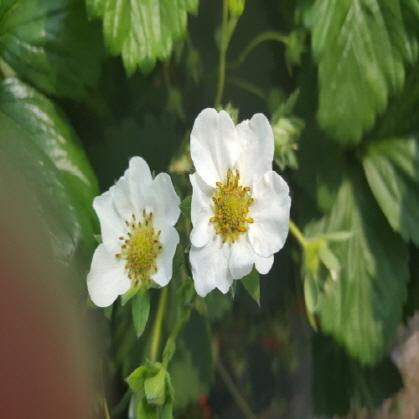Blossom Blight: (111, 205, 165, 286)
